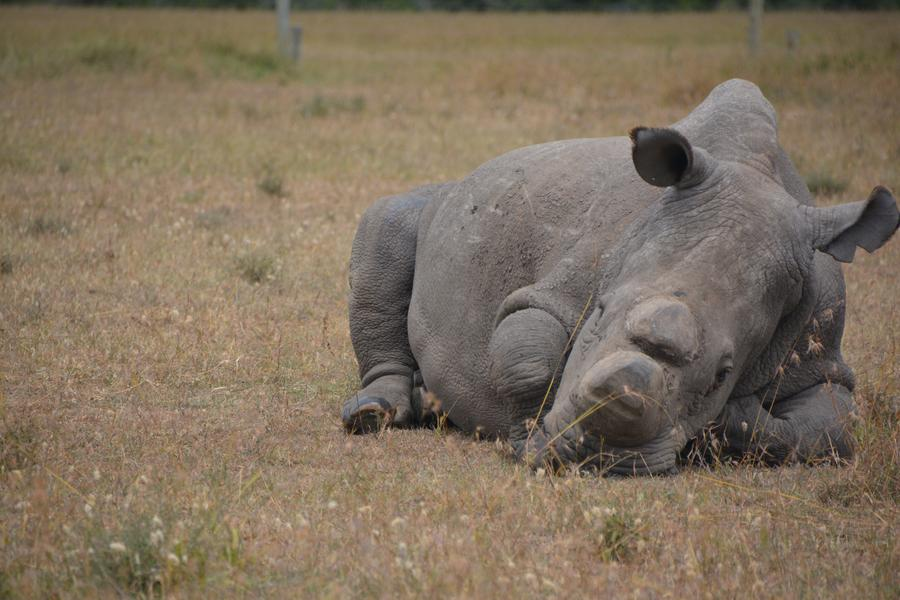rhino: (377, 76, 873, 437)
